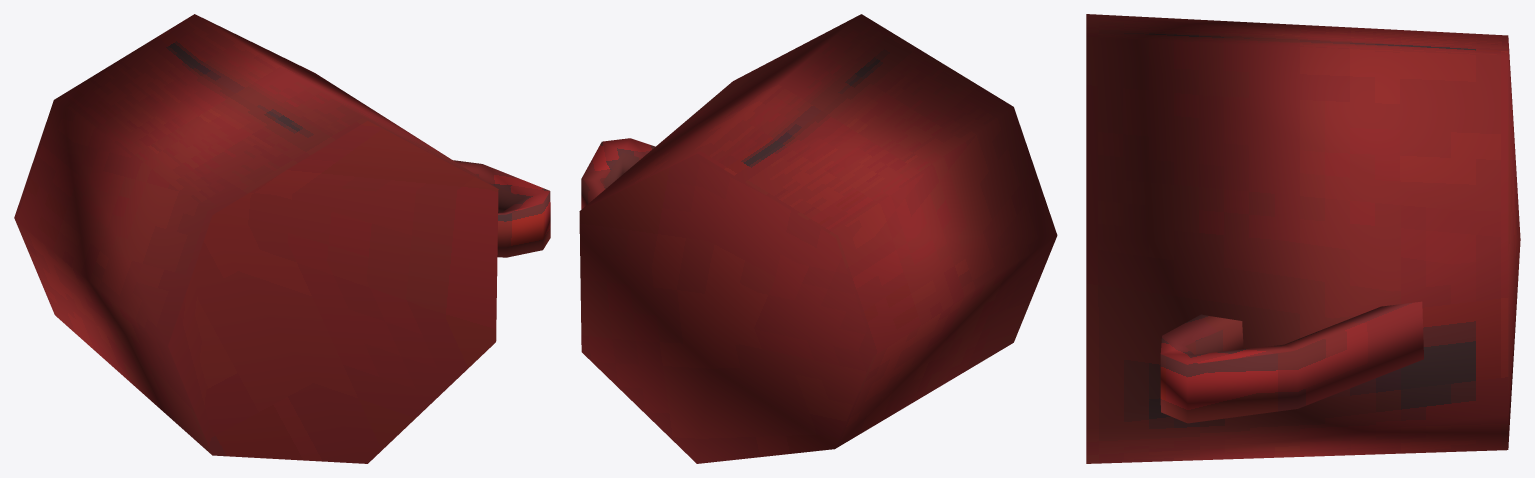
Rendered from nt_2020_dish_mug_LOD2.obj.
3 renders of one model, left to right at view 1: azimuth 30°, elevation 25°; view 2: azimuth 150°, elevation 25°; view 3: azimuth 270°, elevation 25°, orthographic. The views are drawn at different scales.
Parts seen in each view (by area): view 1: mtl_nt_2020_dish_mug_01; view 2: mtl_nt_2020_dish_mug_01; view 3: mtl_nt_2020_dish_mug_01.
Part boxes in pixels (<box>): mtl_nt_2020_dish_mug_01: <box>14,14,550,463</box>; mtl_nt_2020_dish_mug_01: <box>579,14,1057,463</box>; mtl_nt_2020_dish_mug_01: <box>1086,14,1520,463</box>.
Bounding box in the file's own units: 12.56 × 9.73 × 8.98.
